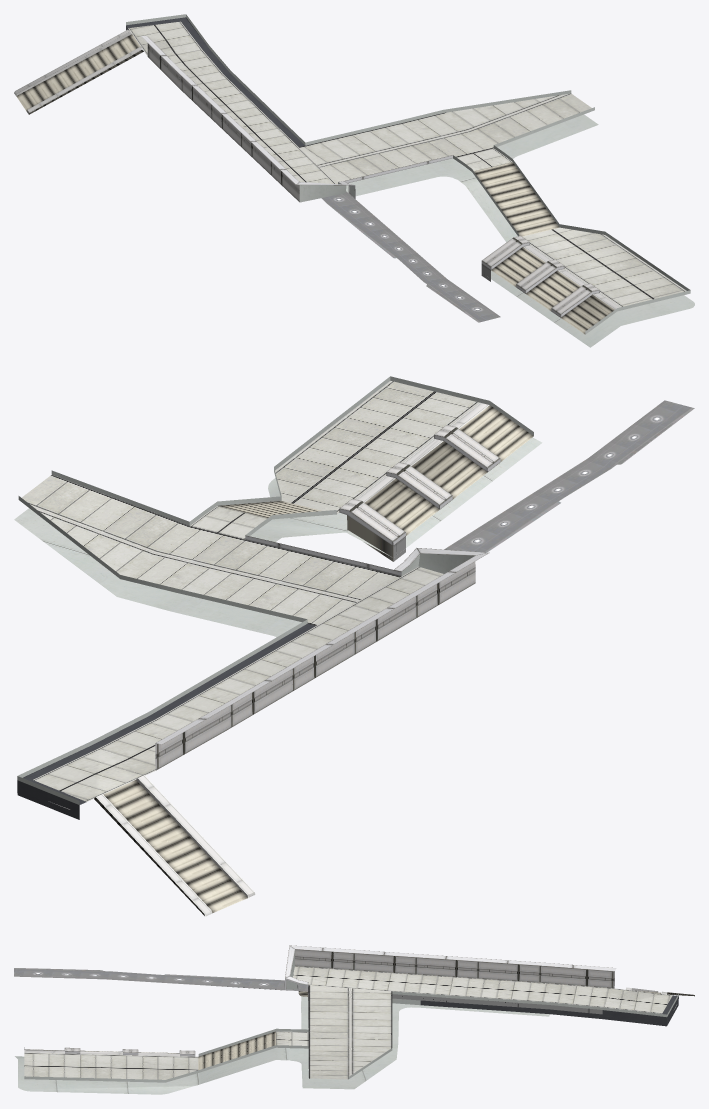
File: STA20_StoreBridgeA01.FBX
3 views of the same model, one above another, from view 1: azimuth 30°, elevation 25°; view 2: azimuth 150°, elevation 25°; view 3: azimuth 270°, elevation 25° (orthographic). The views are drawn at different scales.
Visible parts, largest first — view 1: STA20_StoreBridgeA01; view 2: STA20_StoreBridgeA01; view 3: STA20_StoreBridgeA01.
Boxes of the visible parts, x1,y1,x2,y2 form: STA20_StoreBridgeA01: (14, 14, 694, 347); STA20_StoreBridgeA01: (14, 376, 694, 916); STA20_StoreBridgeA01: (14, 945, 694, 1094).
Bounding box in the file's own units: 27.41 × 5.87 × 54.69.
